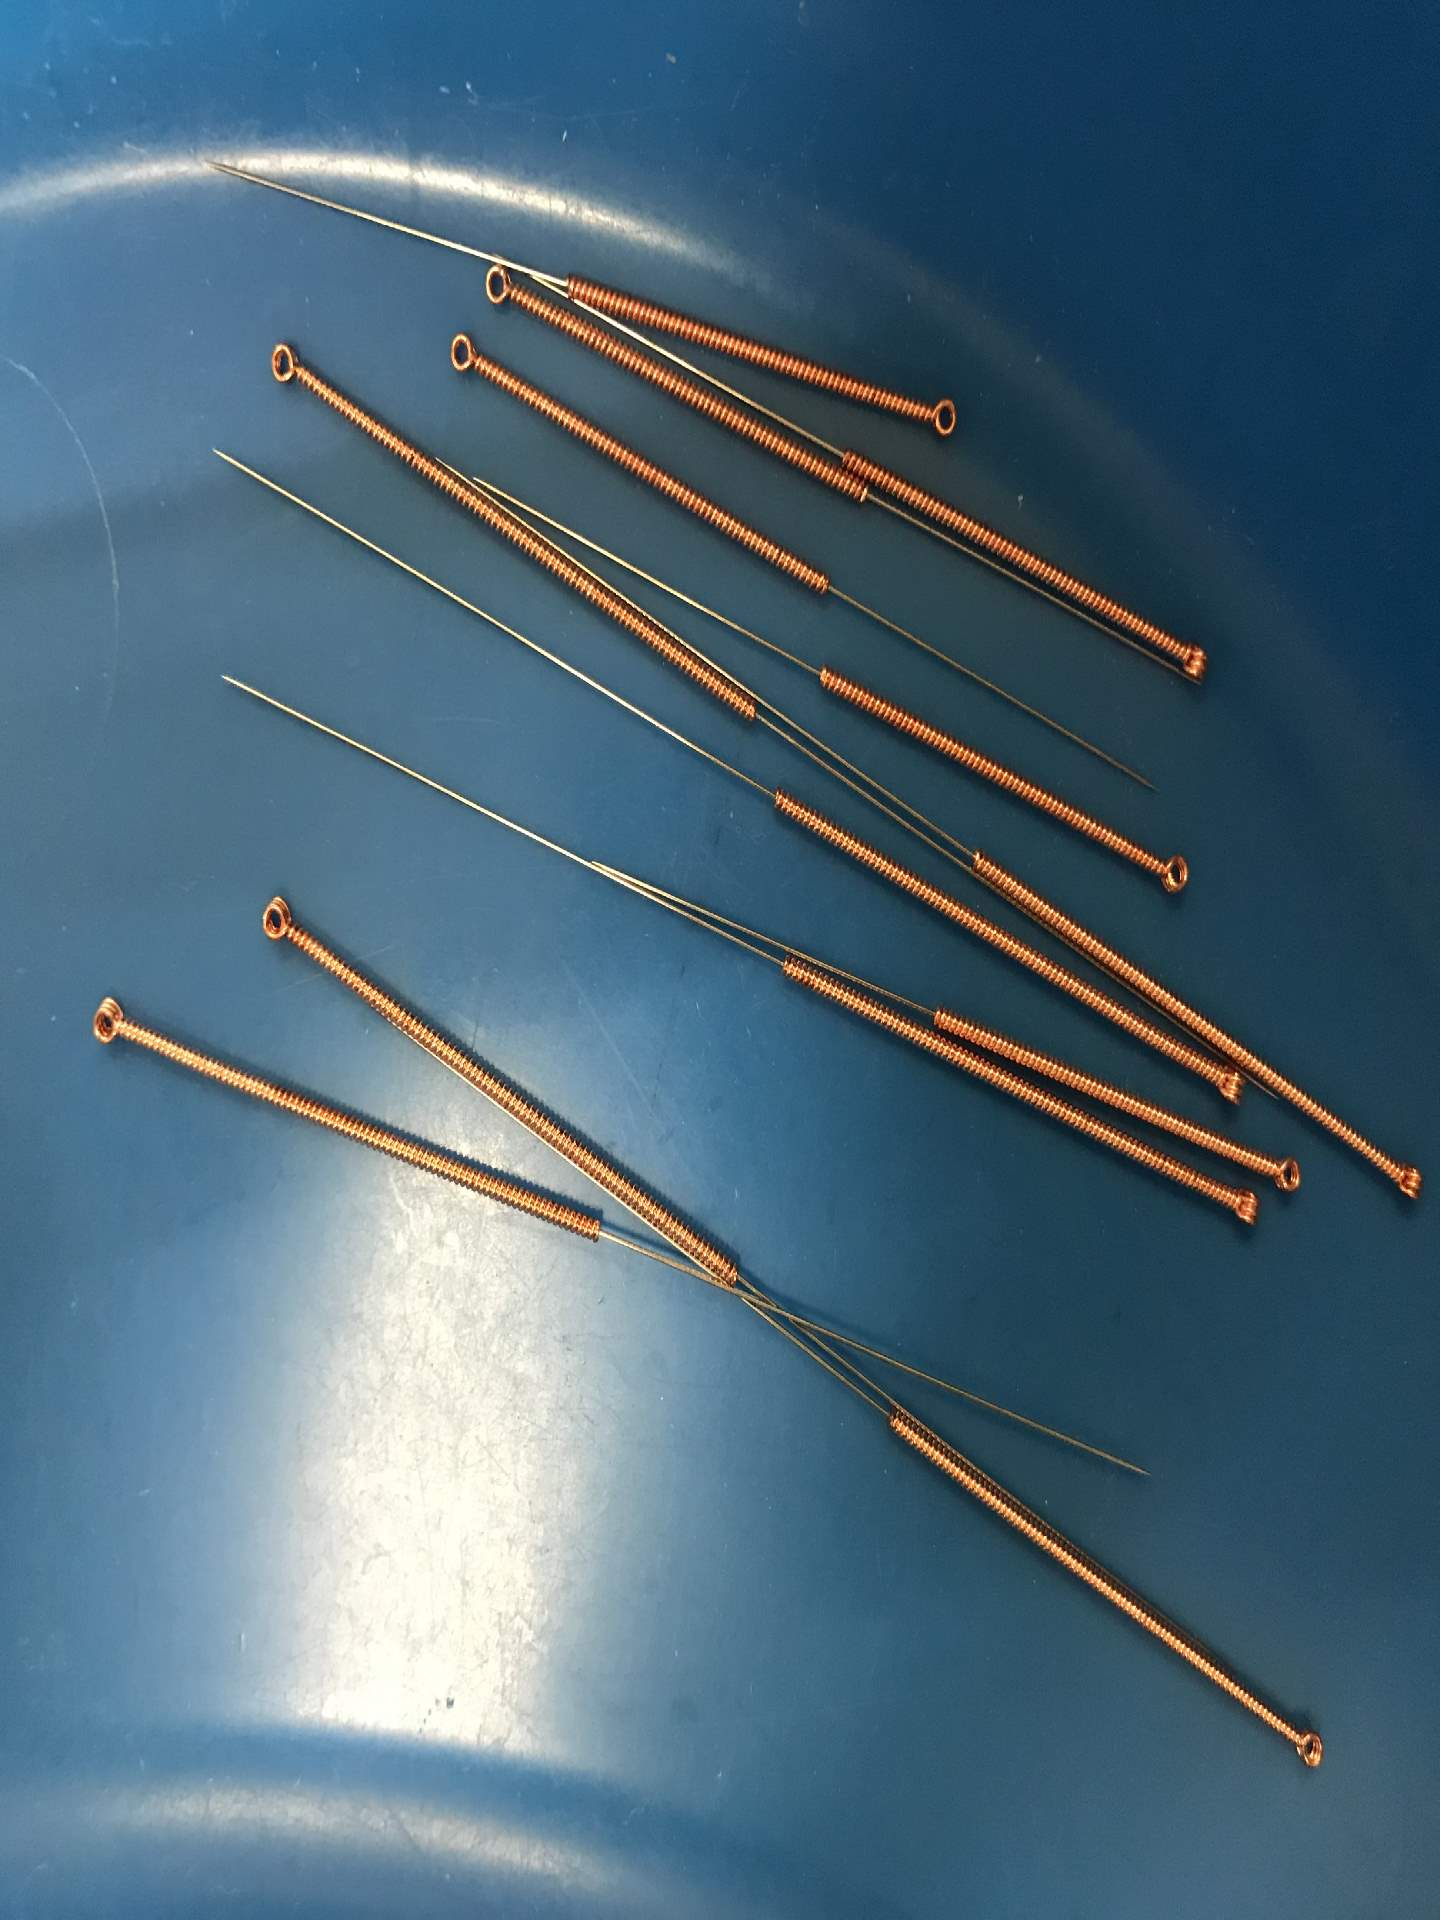needle: (73, 989, 147, 1058), (1275, 1708, 1336, 1782), (908, 382, 973, 451), (248, 889, 312, 958), (1144, 835, 1199, 909), (253, 334, 319, 395), (1165, 633, 1225, 694), (433, 325, 492, 386), (464, 259, 523, 314), (1378, 1154, 1429, 1211), (1198, 1061, 1251, 1116), (1212, 1182, 1266, 1234), (1258, 1147, 1308, 1200)
